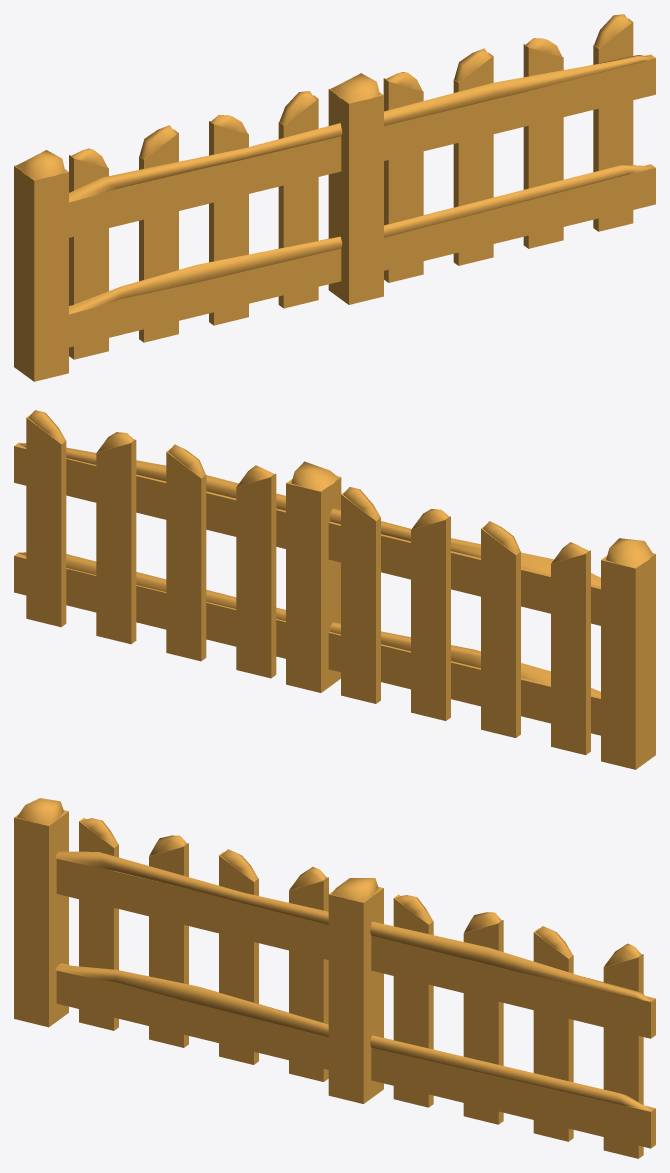
Rendered from ograda.fbx.
3 renders of one model, top to bottom at view 1: azimuth 30°, elevation 25°; view 2: azimuth 150°, elevation 25°; view 3: azimuth 330°, elevation 25°, orthographic.
Visible parts, largest first — view 1: ograda; view 2: ograda; view 3: ograda.
Part boxes in pixels (<box>): ograda: <box>14,14,655,381</box>; ograda: <box>14,410,655,769</box>; ograda: <box>14,798,655,1158</box>.
Bounding box in the file's own units: 497 × 164 × 28.14.
